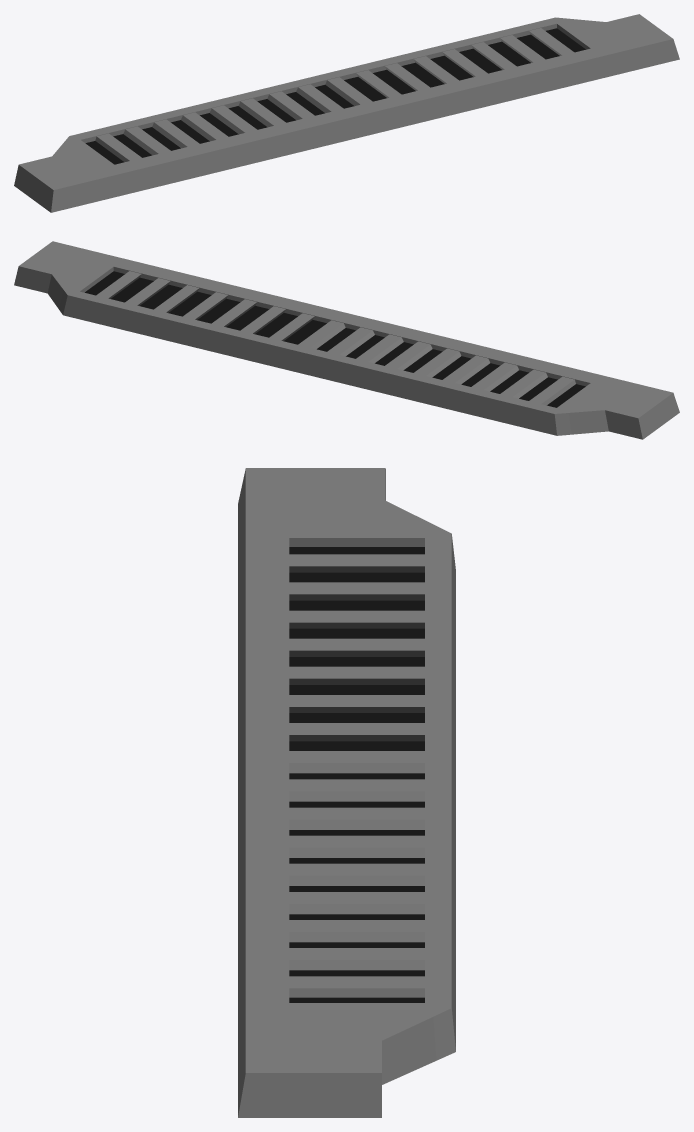
Rendered from q-scifi-mod-prop-vent-wide.glb.
The picture shows the model from 3 angles, top to bottom: view 1: azimuth 30°, elevation 25°; view 2: azimuth 150°, elevation 25°; view 3: azimuth 270°, elevation 25°; orthographic projection. The views are drawn at different scales.
Parts seen in each view (by area): view 1: Prop_Vent_Wide; view 2: Prop_Vent_Wide; view 3: Prop_Vent_Wide.
Part boxes in pixels (x1,y1,x2,y2): Prop_Vent_Wide: [14, 14, 679, 212]; Prop_Vent_Wide: [14, 241, 679, 439]; Prop_Vent_Wide: [238, 468, 455, 1117].
Size of the model in its own units: 1.94 by 0.0595 by 0.291.
3 materials, 2 textured.
